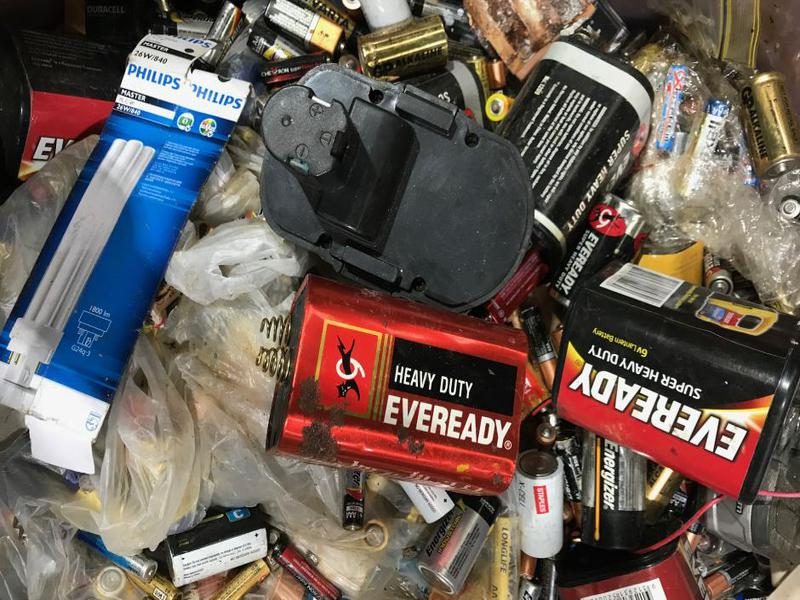battery: (247, 265, 528, 504), (539, 261, 800, 510), (498, 34, 661, 251), (407, 493, 506, 597), (156, 507, 276, 590), (349, 14, 467, 84), (732, 71, 800, 184), (513, 446, 569, 565), (700, 551, 768, 600)
paper: (2, 26, 253, 479)
